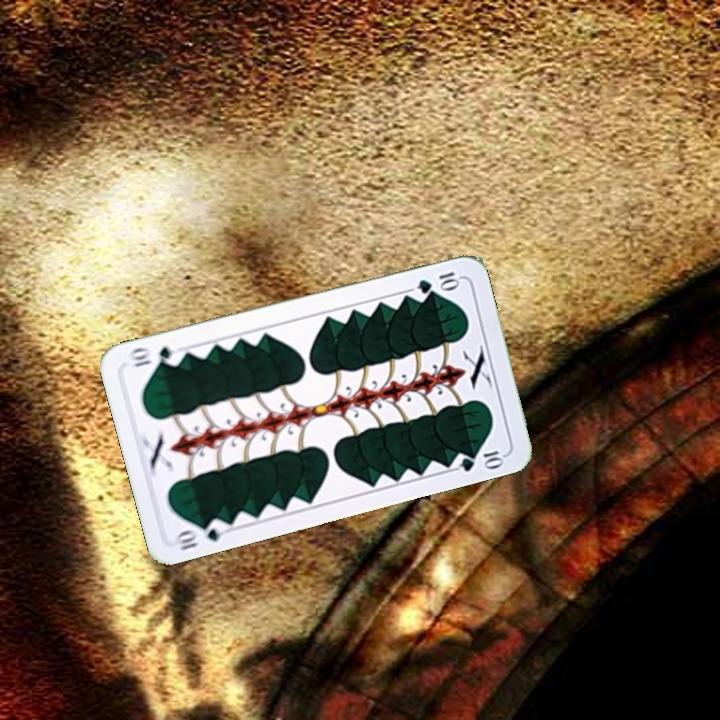G10: (170, 515, 230, 553), (413, 267, 462, 296)
